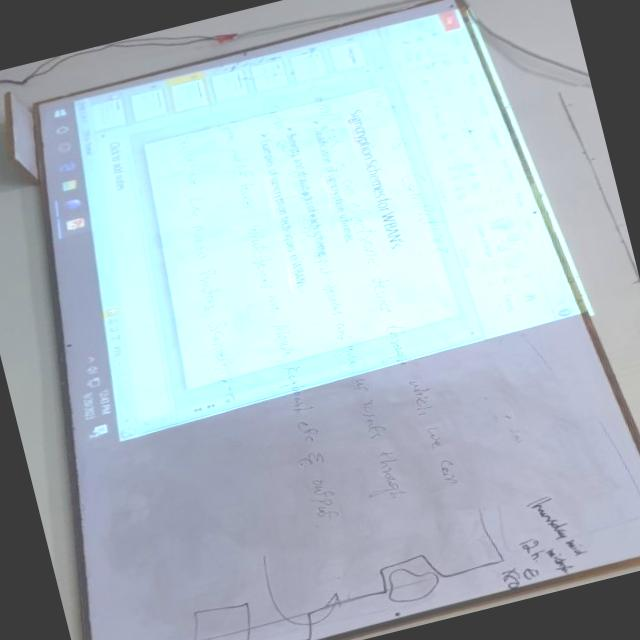Slide: (43, 10, 575, 451)
White-board: (28, 0, 640, 640)
